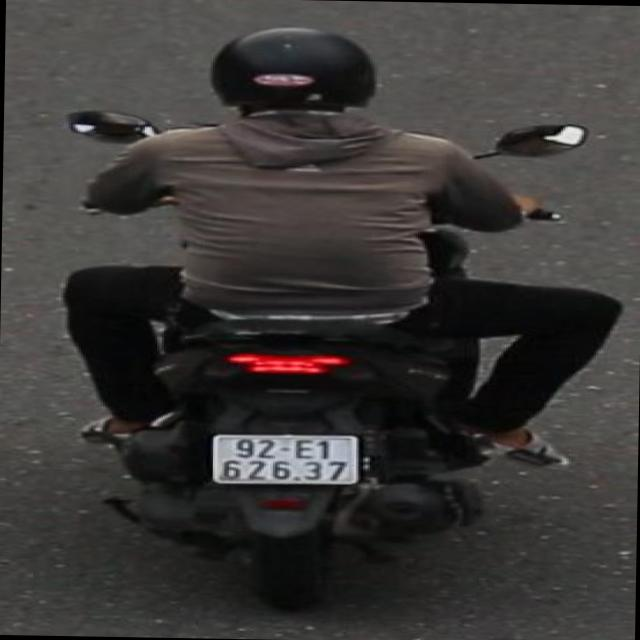LP: (207, 428, 368, 493)
helmet: (196, 18, 396, 136)
